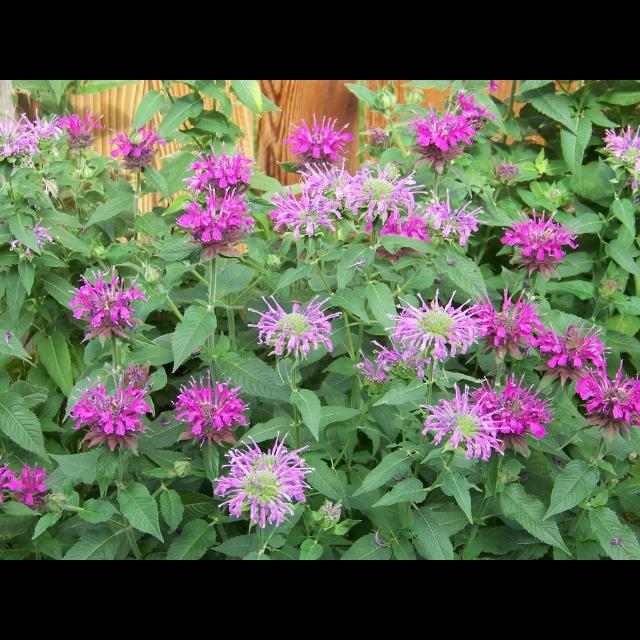Flower: (207, 436, 315, 528), (381, 284, 491, 370), (426, 380, 506, 462), (71, 376, 155, 446), (66, 268, 146, 336), (257, 300, 333, 370), (268, 177, 346, 243), (569, 360, 639, 432), (472, 284, 548, 350), (334, 159, 420, 217), (176, 182, 256, 244), (170, 369, 248, 429), (537, 317, 609, 373), (501, 371, 553, 445), (500, 208, 580, 256), (284, 110, 354, 160), (424, 189, 488, 239), (186, 136, 250, 184), (404, 104, 470, 144), (110, 121, 160, 167), (606, 125, 640, 189), (0, 459, 48, 503), (300, 158, 352, 196), (15, 106, 60, 148), (380, 216, 430, 250), (456, 92, 498, 130), (58, 112, 104, 142), (1, 110, 34, 150)
